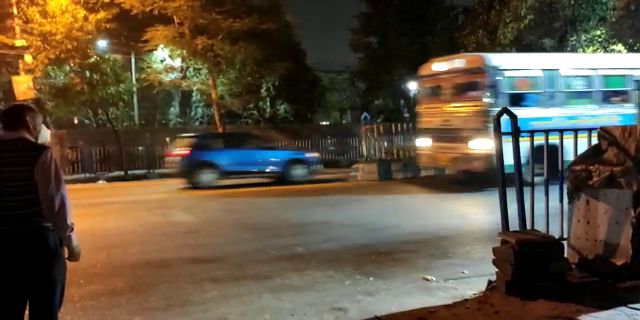Bus: (414, 45, 640, 187)
Car: (167, 129, 327, 197)
